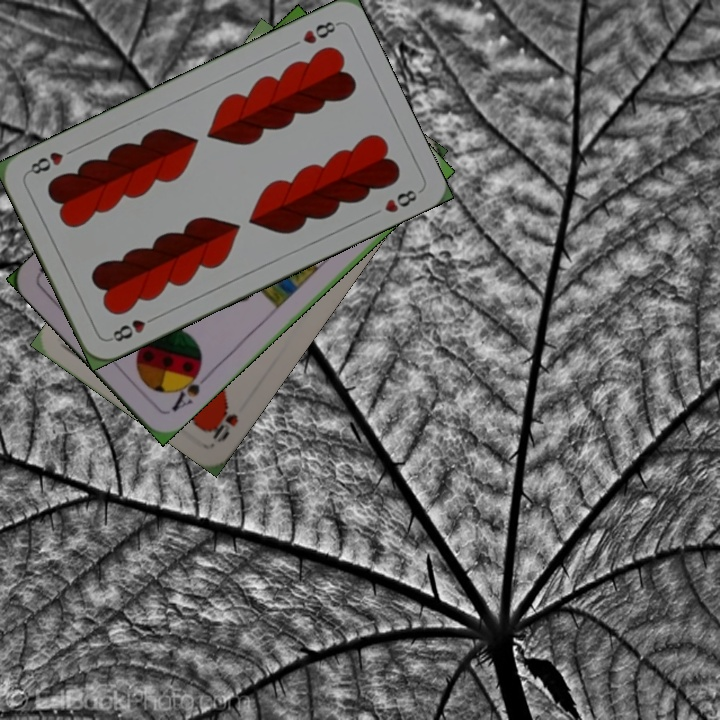H8: (105, 311, 160, 345), (298, 17, 341, 47)
HO: (206, 402, 241, 445)
SA: (167, 363, 212, 415)
